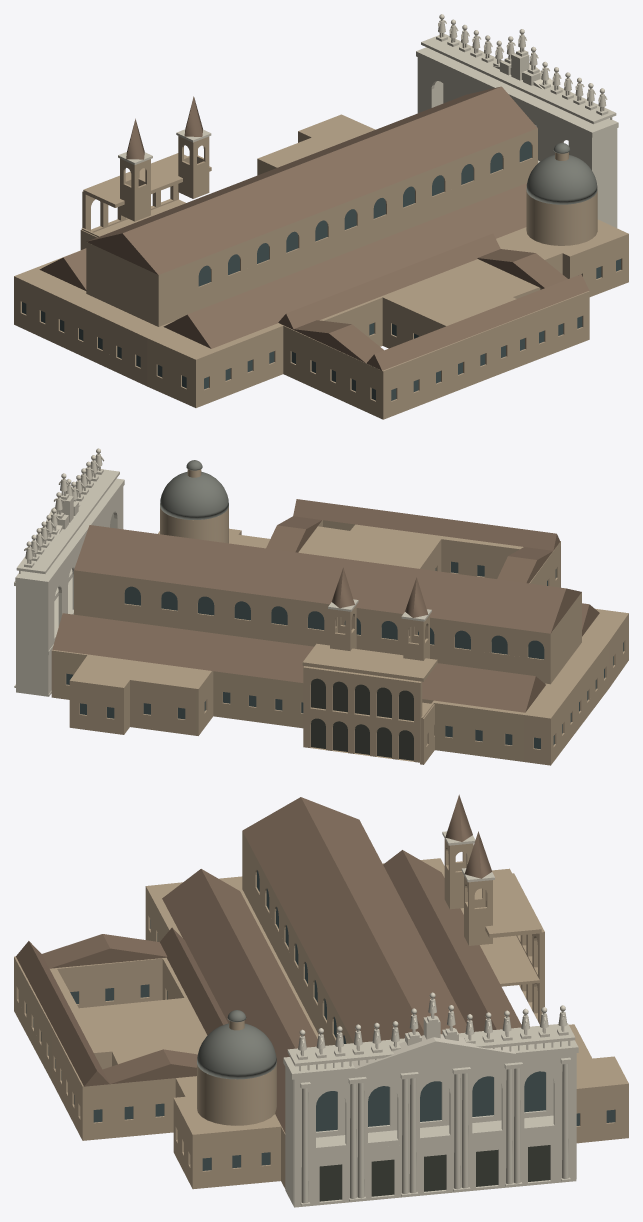
File: san-giovanni-laterano-near.glb
3 renders of one model, top to bottom at view 1: azimuth 30°, elevation 25°; view 2: azimuth 150°, elevation 25°; view 3: azimuth 270°, elevation 25°, orthographic. The views are drawn at different scales.
Visible parts, largest first — view 1: san-giovanni-laterano-0-masonry, san-giovanni-laterano-0-roof, san-giovanni-laterano-0-stone, san-giovanni-laterano-0-glass, san-giovanni-laterano-0-metal; view 2: san-giovanni-laterano-0-masonry, san-giovanni-laterano-0-roof, san-giovanni-laterano-0-stone, san-giovanni-laterano-0-glass, san-giovanni-laterano-0-shadow, san-giovanni-laterano-0-metal; view 3: san-giovanni-laterano-0-roof, san-giovanni-laterano-0-masonry, san-giovanni-laterano-0-stone, san-giovanni-laterano-0-glass, san-giovanni-laterano-0-shadow, san-giovanni-laterano-0-metal.
Part boxes in pixels (box(x1,y1,x2,y2)): san-giovanni-laterano-0-masonry: box(14, 114, 628, 419); san-giovanni-laterano-0-roof: box(39, 86, 589, 370); san-giovanni-laterano-0-stone: box(118, 14, 618, 227); san-giovanni-laterano-0-glass: box(22, 141, 620, 400); san-giovanni-laterano-0-metal: box(526, 143, 597, 204); san-giovanni-laterano-0-masonry: box(51, 469, 628, 765); san-giovanni-laterano-0-roof: box(52, 499, 599, 712); san-giovanni-laterano-0-stone: box(14, 448, 431, 696); san-giovanni-laterano-0-glass: box(66, 561, 623, 749); san-giovanni-laterano-0-shadow: box(311, 678, 413, 760); san-giovanni-laterano-0-metal: box(160, 460, 228, 519); san-giovanni-laterano-0-roof: box(16, 794, 521, 1132); san-giovanni-laterano-0-masonry: box(14, 831, 628, 1189); san-giovanni-laterano-0-stone: box(283, 831, 578, 1207); san-giovanni-laterano-0-glass: box(26, 870, 615, 1170); san-giovanni-laterano-0-shadow: box(319, 1145, 550, 1201); san-giovanni-laterano-0-metal: box(197, 1010, 276, 1079).
Bounding box in the file's own units: 158 × 48.8 × 138.
